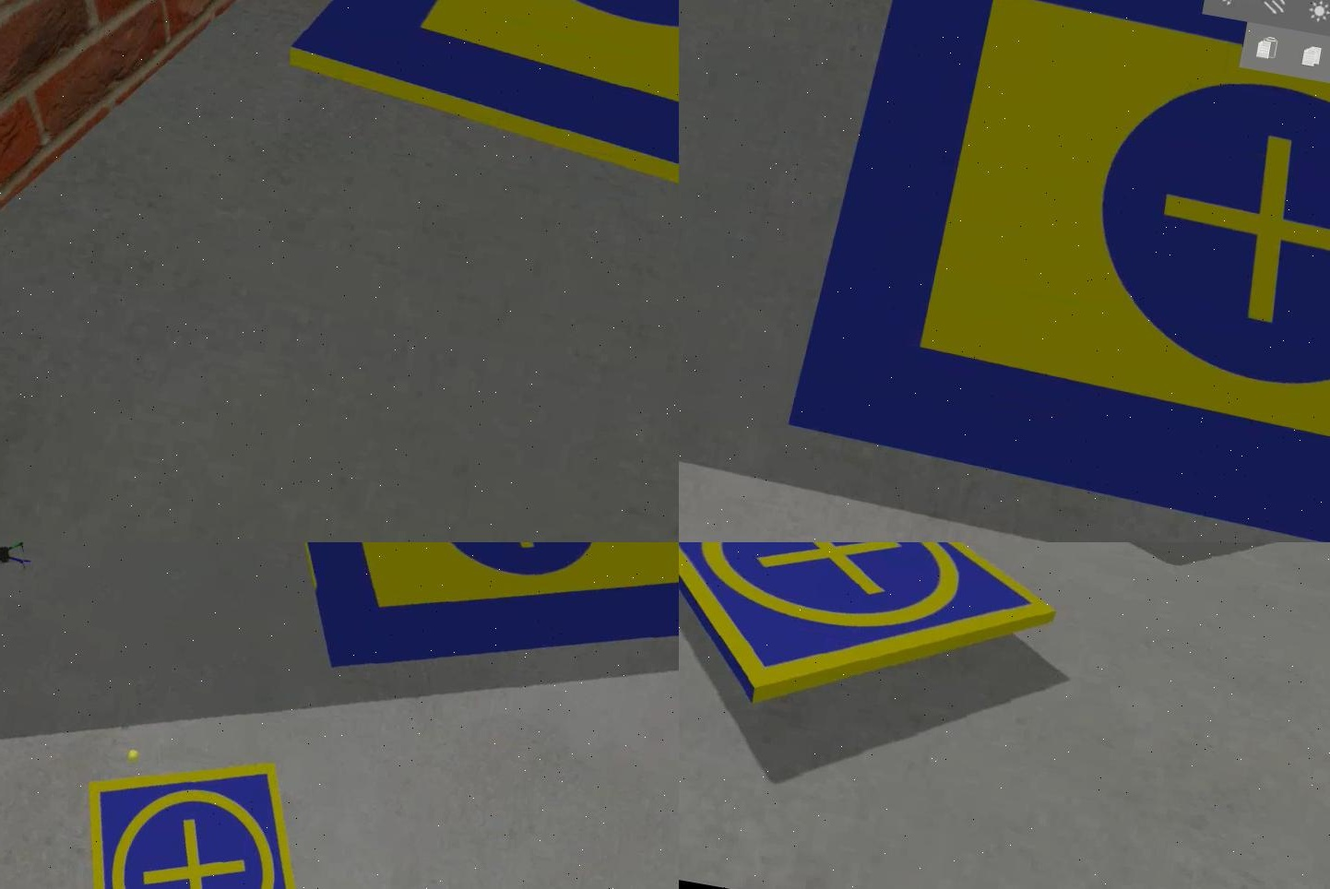large_base: (780, 1, 1328, 542), (266, 1, 678, 253), (224, 542, 678, 747)
small_base: (678, 542, 1068, 750), (47, 725, 347, 889)
